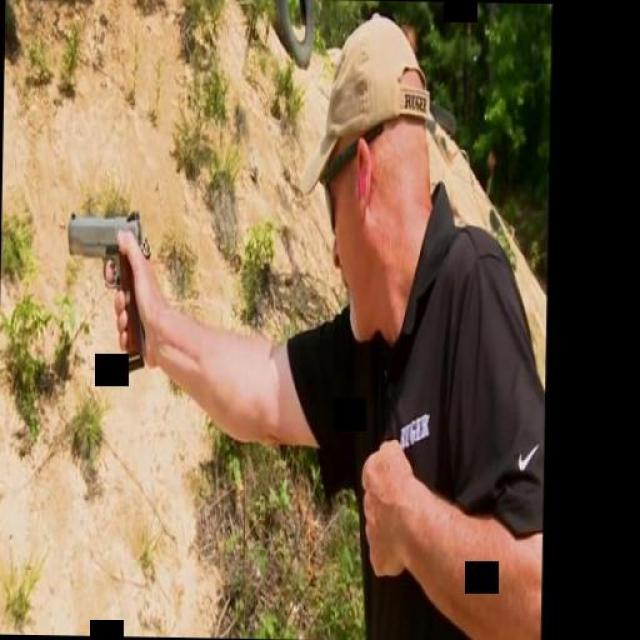gun: (60, 208, 152, 372)
